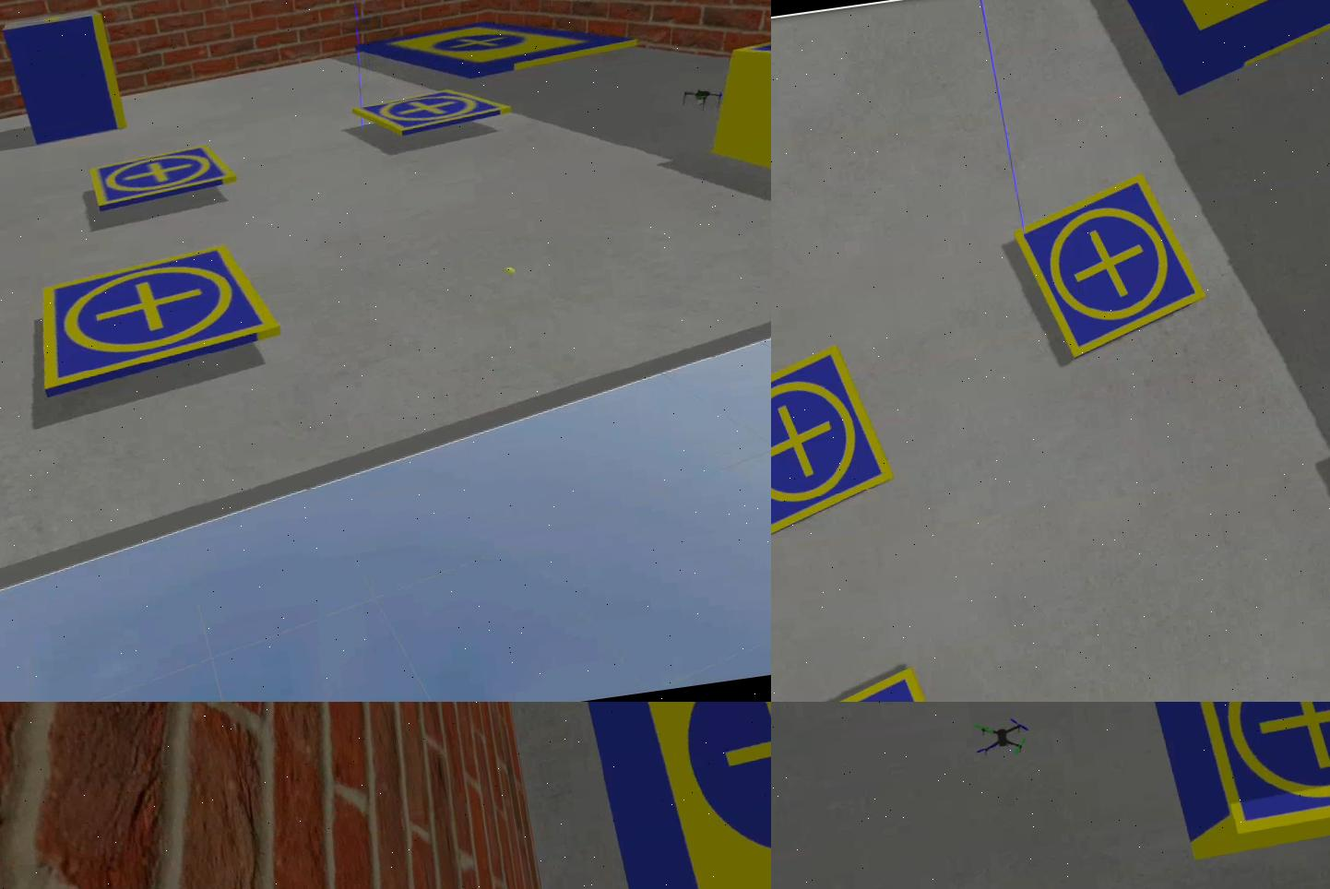large_base: (554, 703, 772, 889), (354, 1, 644, 95), (1110, 1, 1330, 100)
small_base: (30, 242, 287, 403), (1012, 171, 1212, 362), (772, 342, 899, 549), (1186, 703, 1330, 837), (347, 82, 513, 148), (88, 141, 242, 211), (730, 15, 772, 98)
